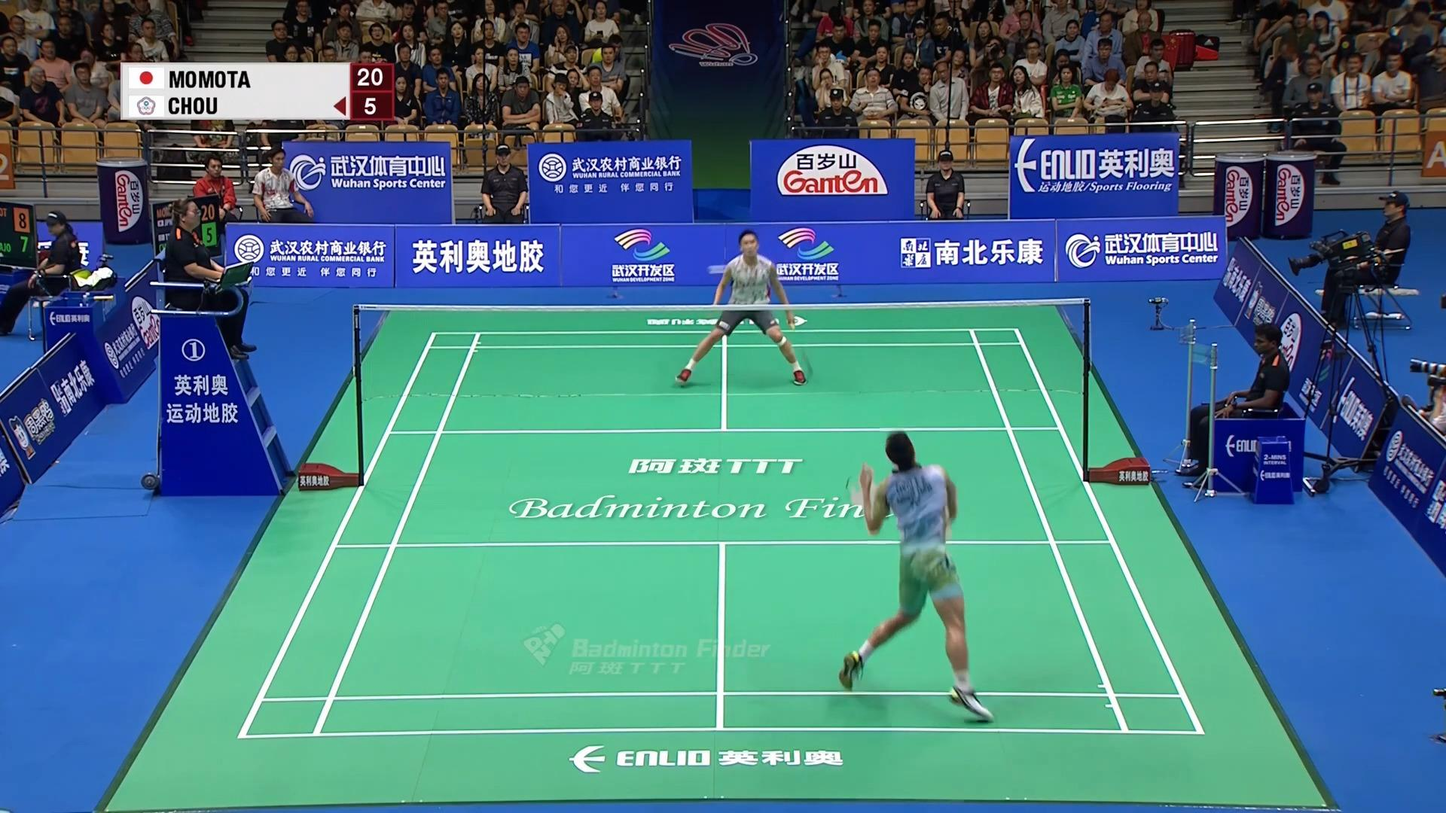player: (837, 431, 993, 723), (677, 228, 807, 386)
